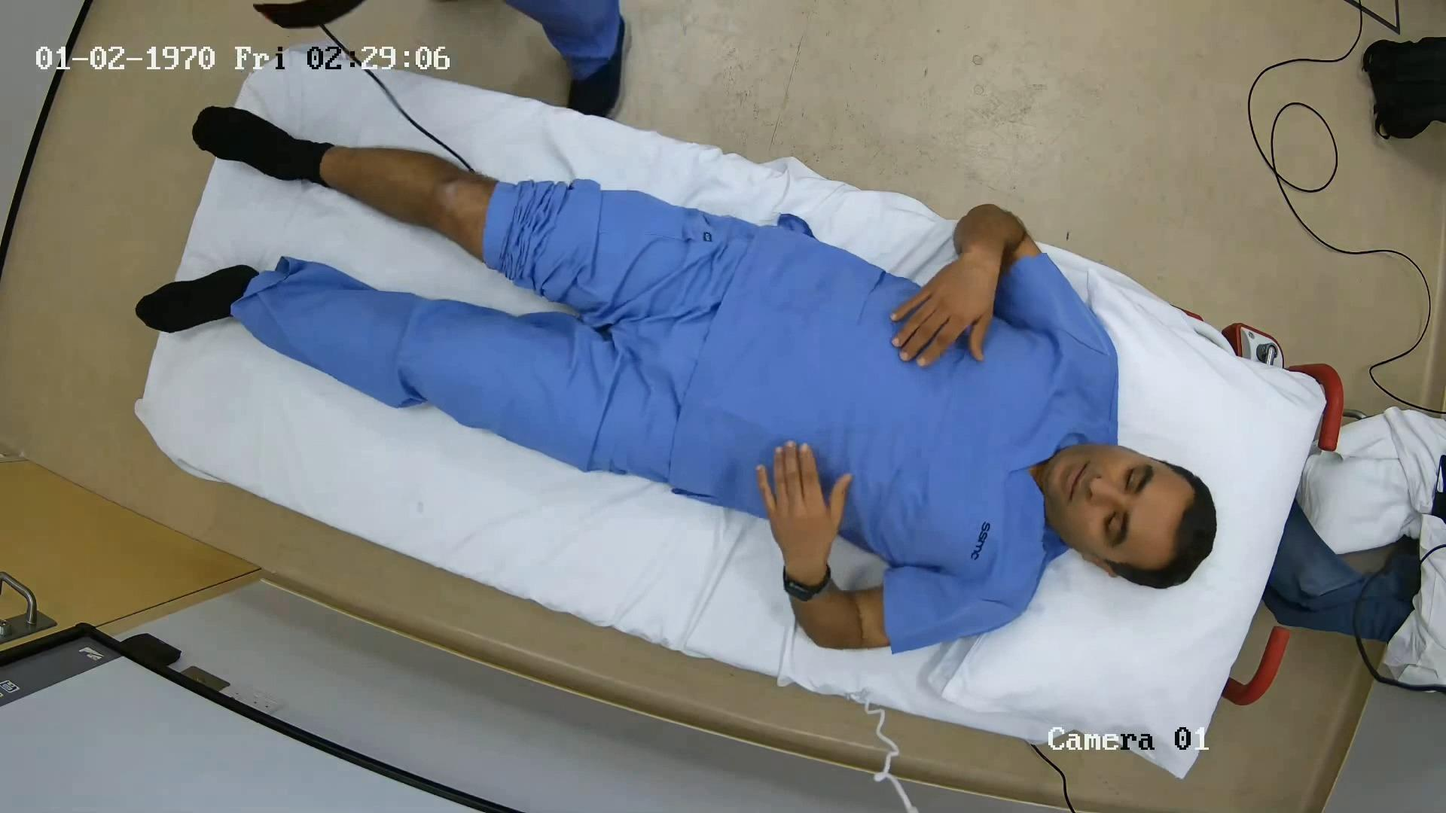patient: (136, 70, 1324, 775), (138, 107, 1216, 650)
